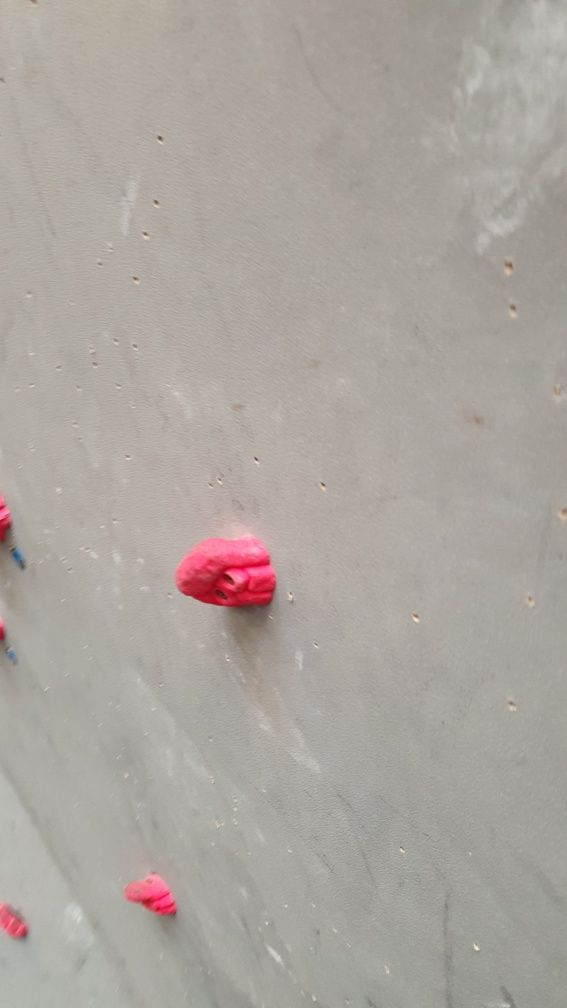Hand Start: (6, 546, 33, 572)
Jug: (168, 532, 276, 614), (124, 871, 184, 922)
